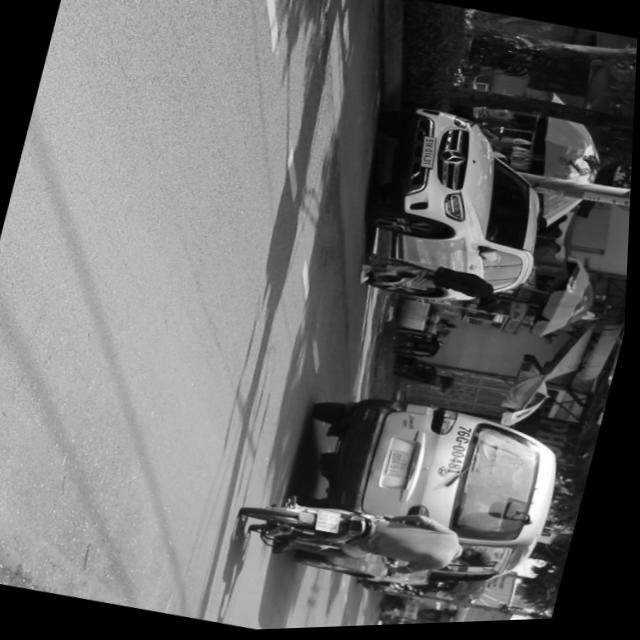licenseplate: (238, 477, 512, 603)
motorcyclist: (459, 542, 505, 575)
nohelmet: (319, 510, 348, 536)
